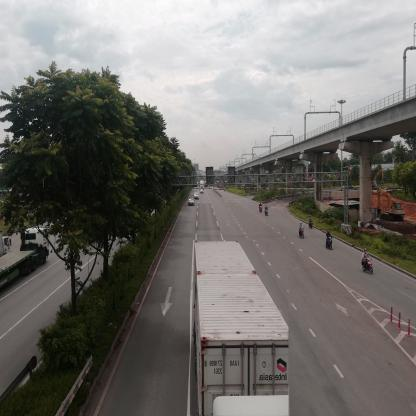car: (190, 200, 197, 207), (194, 194, 200, 199)
container: (191, 241, 289, 416), (1, 230, 50, 302)
motorbike: (360, 247, 378, 274), (327, 229, 335, 252), (300, 226, 305, 242), (265, 206, 271, 219), (311, 220, 315, 230), (260, 203, 263, 213)
